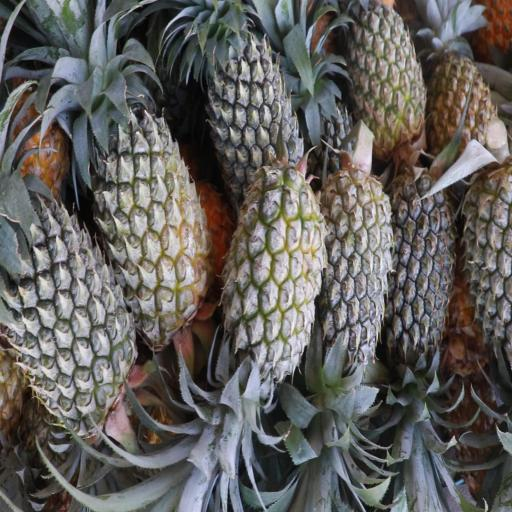------------------------------: (93, 78, 207, 332), (228, 163, 322, 387), (349, 0, 425, 156), (426, 18, 498, 172)
